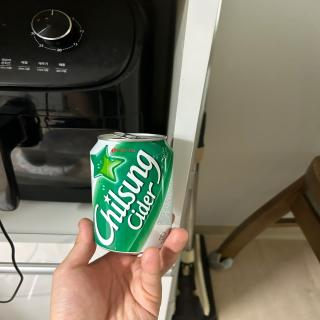cocacola: (85, 129, 178, 254)
